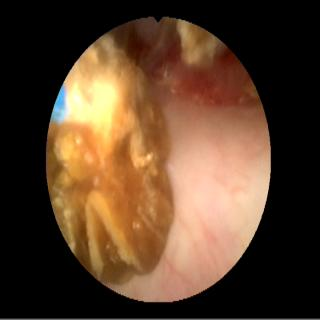stone: (49, 39, 174, 283), (178, 22, 225, 66)
tissue: (119, 22, 268, 298)
